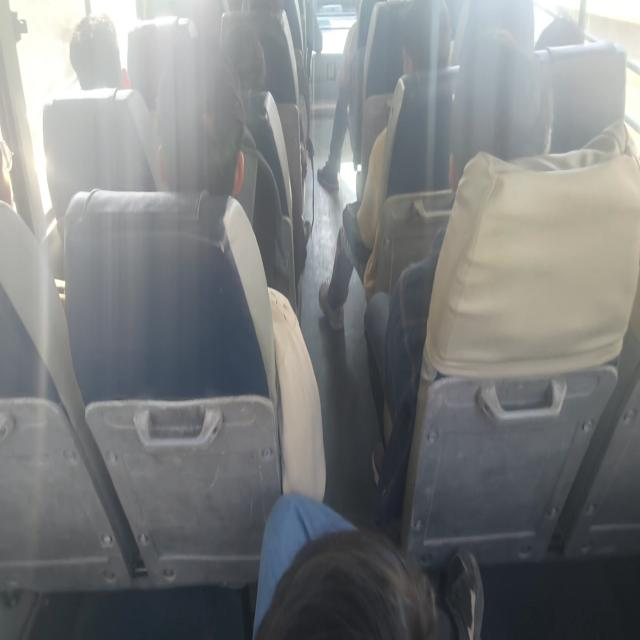person: (247, 531, 468, 640), (441, 54, 550, 208), (144, 63, 246, 214), (67, 0, 129, 102), (398, 0, 454, 83), (0, 101, 33, 231), (216, 23, 266, 96), (536, 0, 593, 60)
